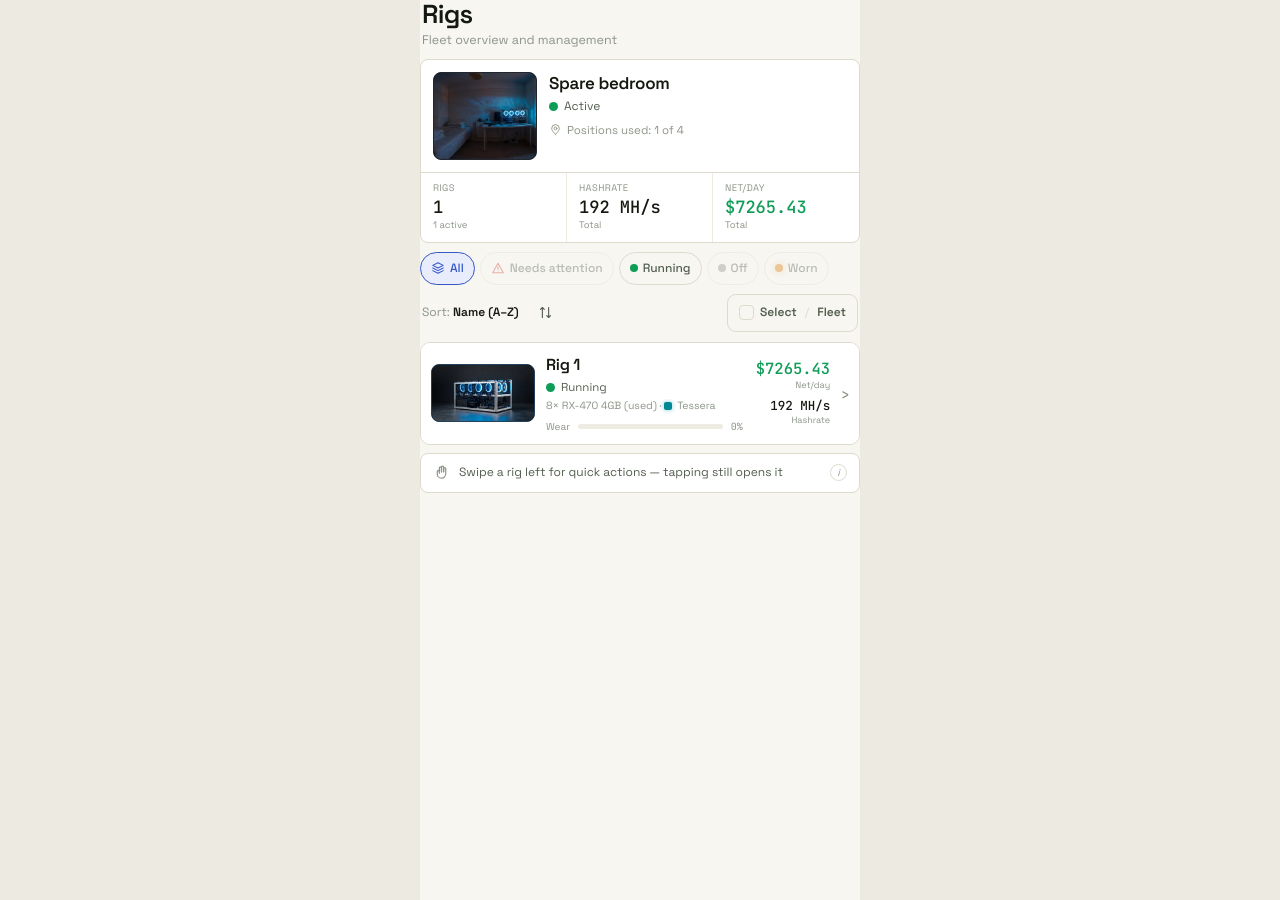
Test: RigsView › opening a rig shows its detail sheet, with dialog semantics
Step 1. Click the button with class "rigrow" → x=483, y=393, box [421,343,859,444]
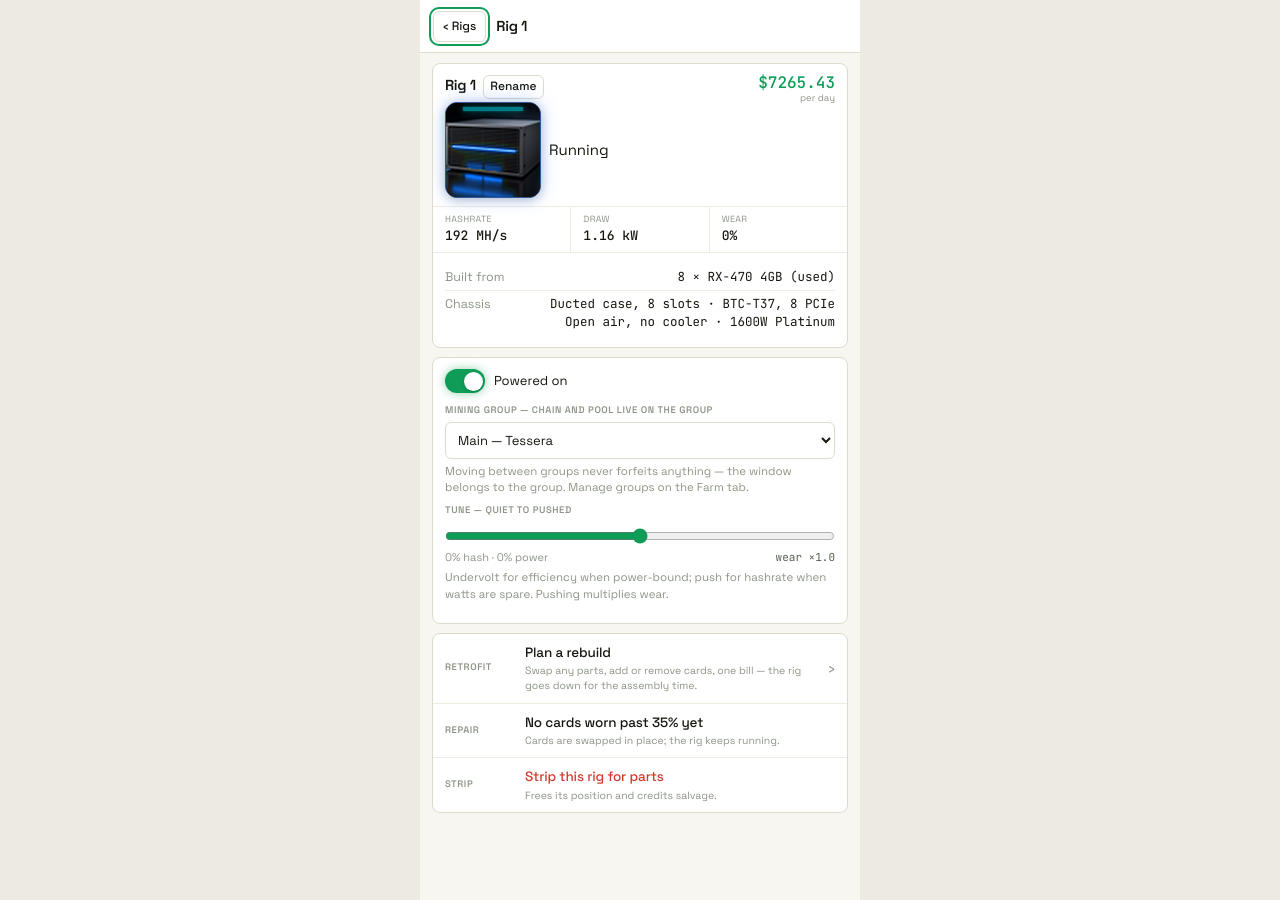
Check: the dialog with class "sheet" is shown, box [420,0,860,899]
Check: the text "Retrofit" is shown, box [445,661,492,673]
Check: the text "Repair" is shown, box [445,724,479,736]
